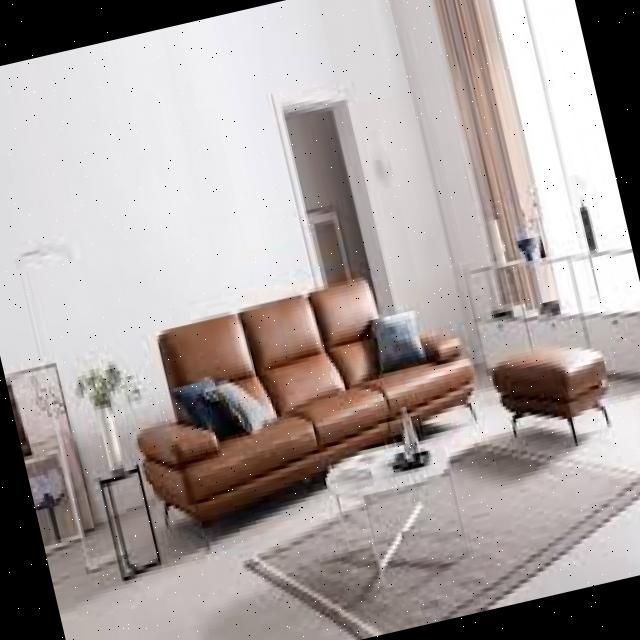Sofa: (108, 230, 516, 590)
